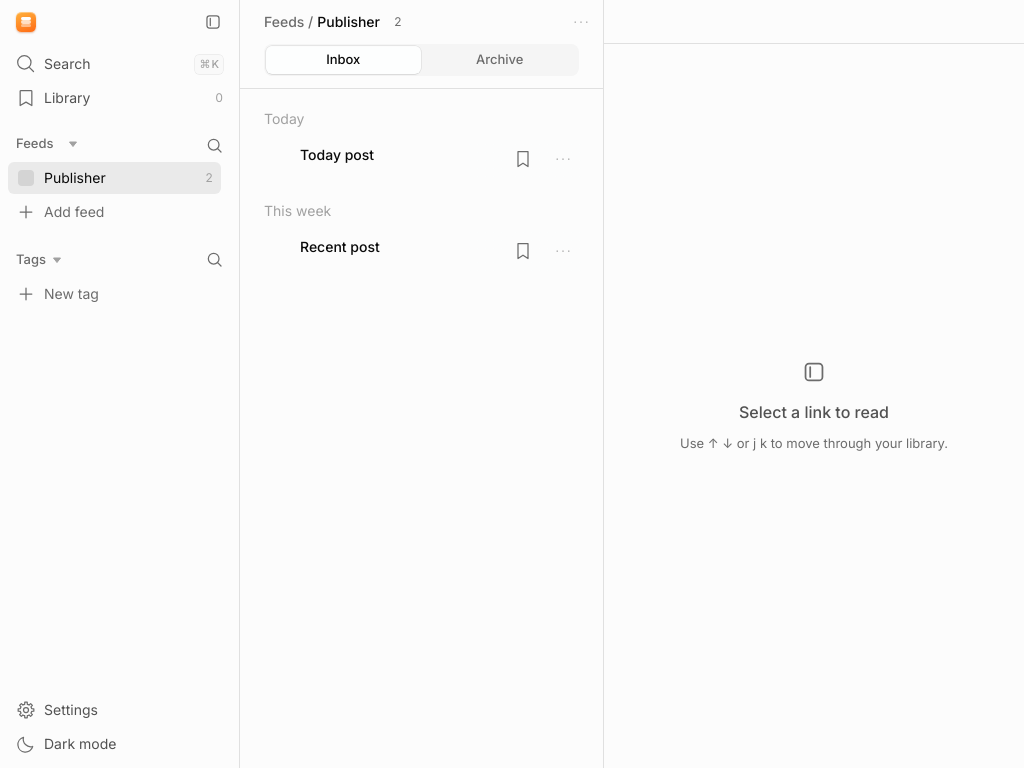
it: saves from the Reader and reports save failures without filling the bookmark
Click the text "Today post" at x=337, y=154, box x1=300 y1=146 x2=374 y2=162
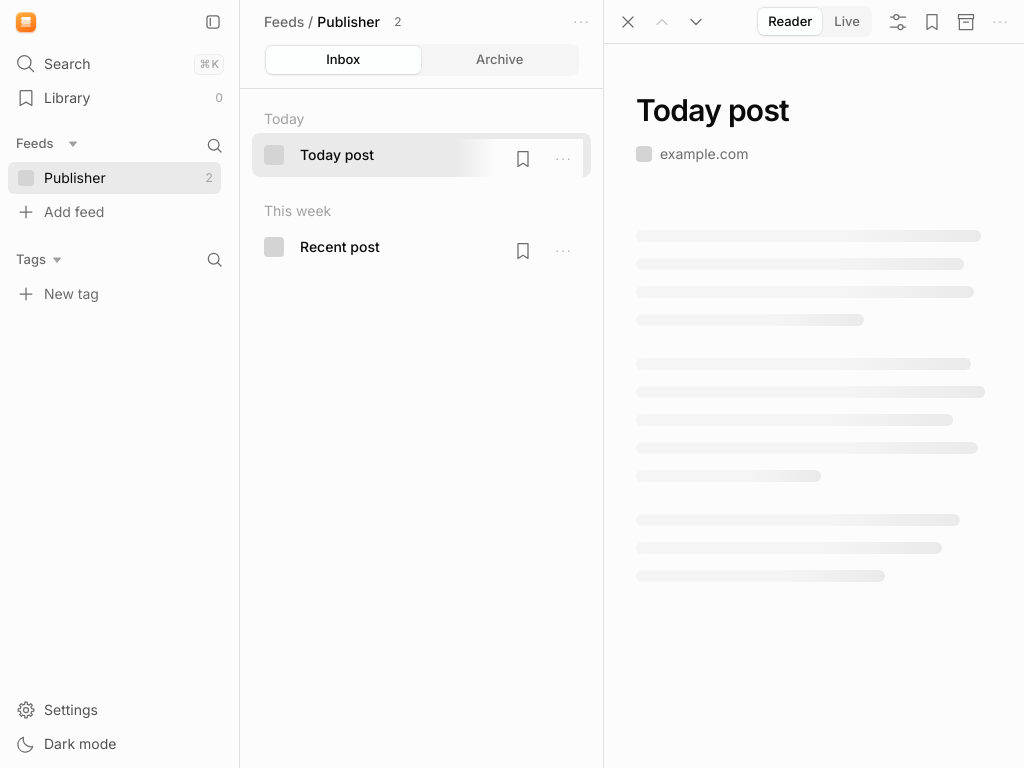
Click the 1st button named "Save to Home" at x=932, y=22, box x1=916 y1=6 x2=948 y2=38
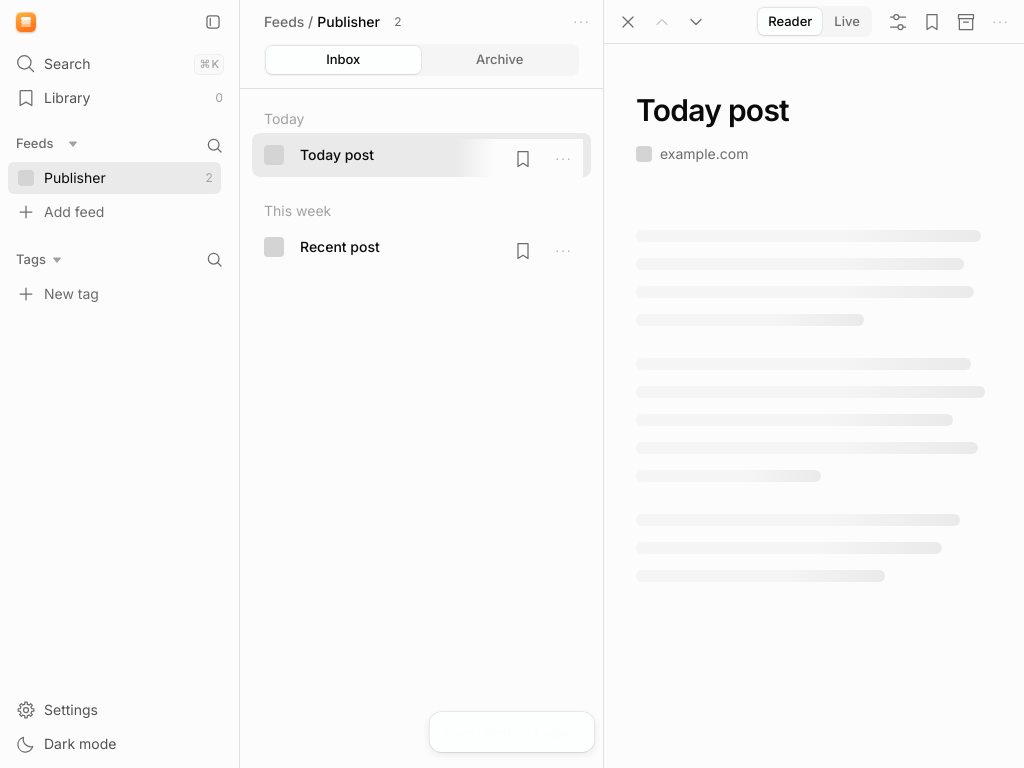
Check: the text "Save failed. Try again." is shown, box x1=429 y1=712 x2=595 y2=752
Click the 1st button named "Save to Home" at x=932, y=22, box x1=916 y1=6 x2=948 y2=38
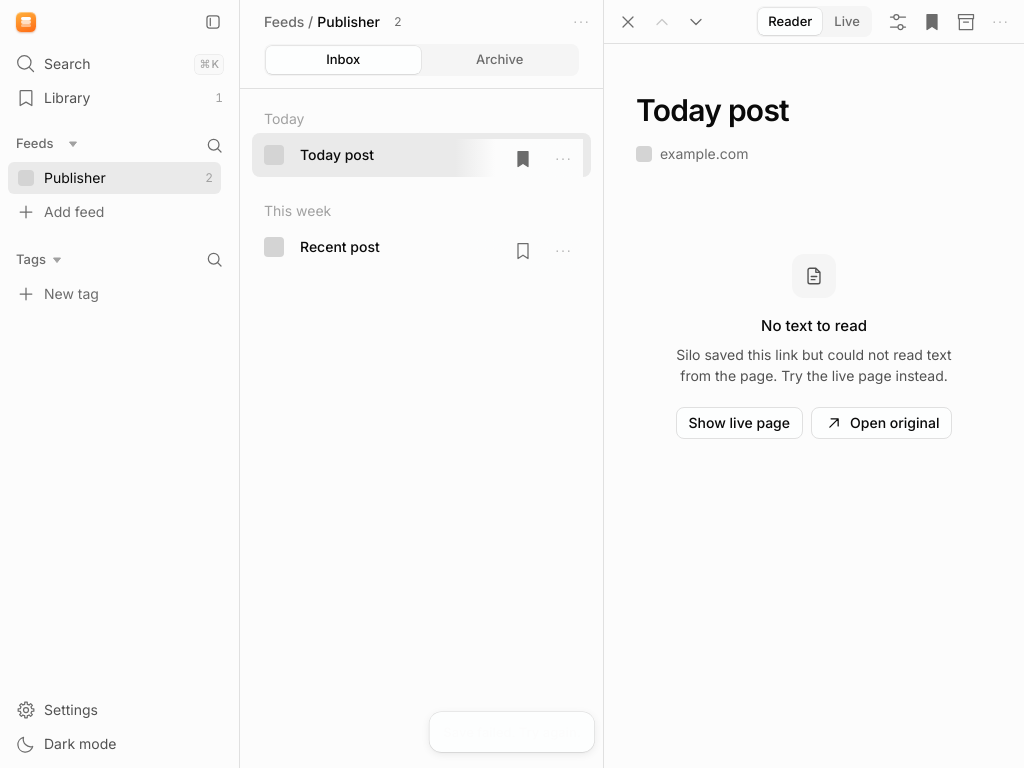
Check: the 1st link named "Open saved" is shown, box x1=922 y1=12 x2=942 y2=32
